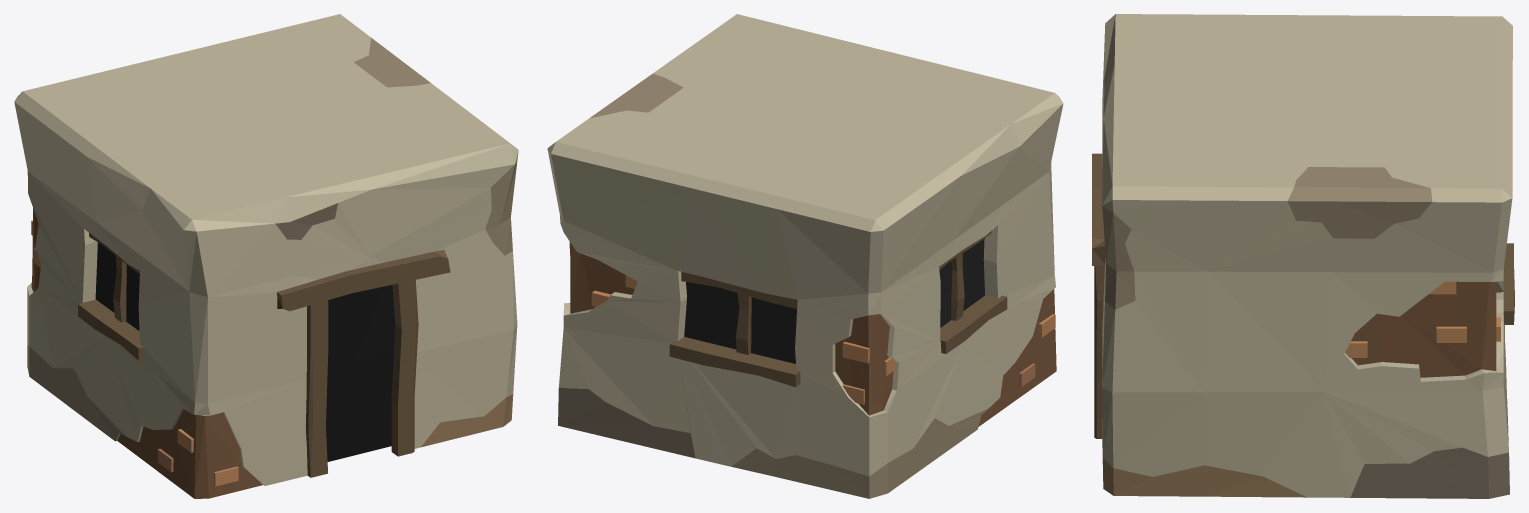
File: house_e.glb
3 renders of one model, left to right at view 1: azimuth 30°, elevation 25°; view 2: azimuth 150°, elevation 25°; view 3: azimuth 270°, elevation 25°, orthographic. The views are drawn at different scales.
Visible parts, largest first — view 1: SM_Bld_Village_05; view 2: SM_Bld_Village_05; view 3: SM_Bld_Village_05.
Part boxes in pixels (left/top/right/bottom): SM_Bld_Village_05: left=14, top=14, right=518, bottom=498; SM_Bld_Village_05: left=547, top=14, right=1063, bottom=498; SM_Bld_Village_05: left=1092, top=14, right=1514, bottom=498.
Bounding box in the file's own units: 419 × 329 × 407.
1 material, 1 textured.
